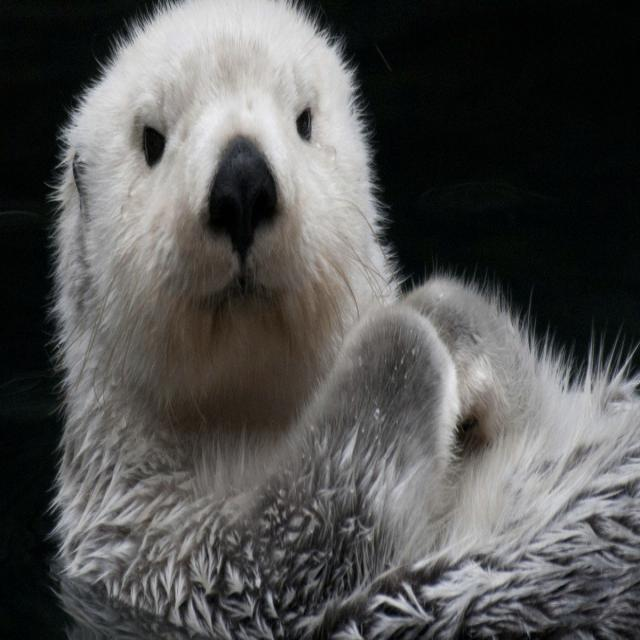otter: (54, 0, 640, 639)
